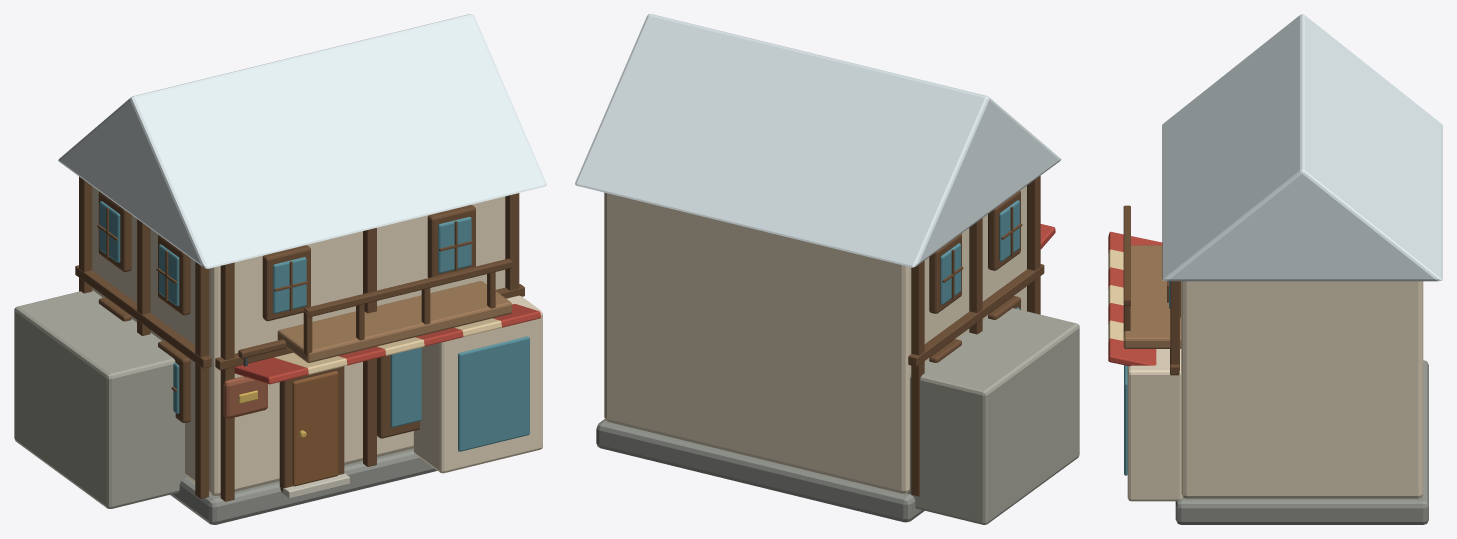
Rendered from snowy-merchant-2.glb.
The picture shows the model from 3 angles, left to right: view 1: azimuth 30°, elevation 25°; view 2: azimuth 150°, elevation 25°; view 3: azimuth 270°, elevation 25°; orthographic projection. The views are drawn at different scales.
Parts seen in each view (by area): view 1: Snow, Warm lime, Dark beams, Fieldstone, Blue glass, Aged oak, Foundation stone, Door oak, Market red cloth, Market cream cloth, Painted sign, Cut limestone; view 2: Warm lime, Snow, Fieldstone, Dark beams, Foundation stone, Blue glass; view 3: Warm lime, Snow, Foundation stone, Aged oak, Market red cloth, Dark beams, Market cream cloth, Blue glass.
Part boxes in pixels (box(x1,y1,x2,y2)): Snow: box(58, 14, 546, 268); Warm lime: box(92, 186, 542, 496); Dark beams: box(75, 176, 524, 501); Fieldstone: box(14, 290, 187, 508); Blue glass: box(99, 201, 529, 451); Aged oak: box(277, 281, 511, 362); Foundation stone: box(170, 448, 437, 524); Door oak: box(292, 371, 338, 486); Market red cloth: box(234, 304, 540, 384); Market cream cloth: box(274, 318, 501, 374); Painted sign: box(223, 376, 267, 418); Cut limestone: box(278, 473, 349, 498); Warm lime: box(604, 186, 1026, 493); Snow: box(575, 14, 1061, 267); Fieldstone: box(907, 308, 1079, 524); Dark beams: box(908, 176, 1044, 496); Foundation stone: box(596, 419, 924, 522); Blue glass: box(940, 200, 1019, 309); Warm lime: box(1127, 281, 1423, 501); Snow: box(1162, 14, 1442, 281); Foundation stone: box(1175, 360, 1428, 524); Aged oak: box(1123, 245, 1181, 348); Market red cloth: box(1108, 231, 1162, 366); Dark beams: box(1123, 205, 1180, 375); Market cream cloth: box(1108, 249, 1123, 342); Blue glass: box(1124, 281, 1170, 475).
Bounding box in the file's own units: 4.6 × 4.22 × 3.52.
